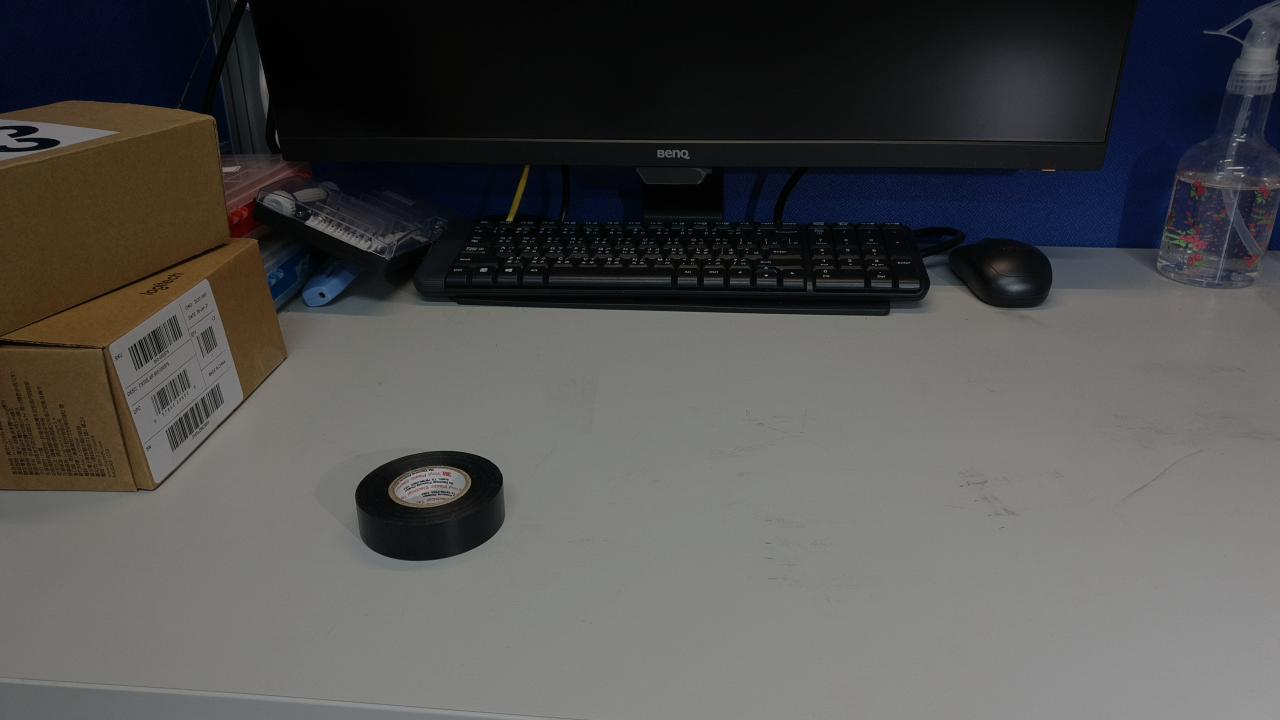blade: (970, 469, 1022, 506)
grasp: (955, 486, 1123, 588)
